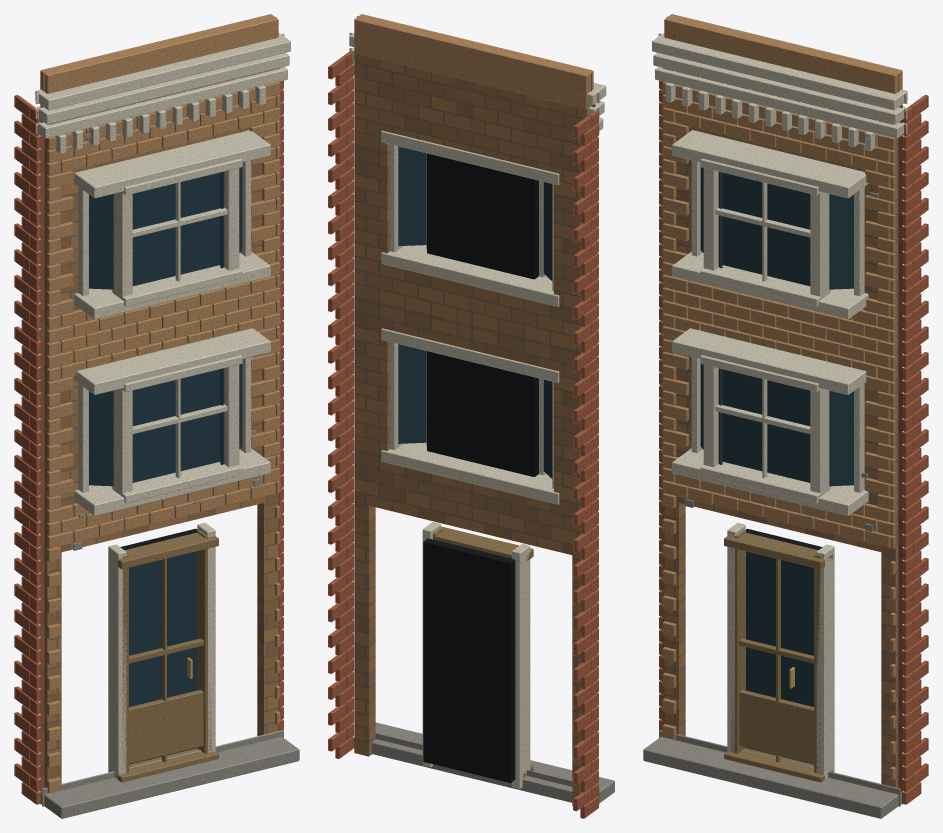
The model's file is RUNDWN14_lod0.glb.
The picture shows the model from 3 angles, left to right: view 1: azimuth 30°, elevation 25°; view 2: azimuth 150°, elevation 25°; view 3: azimuth 330°, elevation 25°; orthographic projection.
Parts seen in each view (by area): view 1: RUNDWN14_FRONT_LOD0; view 2: RUNDWN14_FRONT_LOD0; view 3: RUNDWN14_FRONT_LOD0.
Boxes of the visible parts, <box> form: RUNDWN14_FRONT_LOD0: <box>14,14,299,818</box>; RUNDWN14_FRONT_LOD0: <box>328,14,614,818</box>; RUNDWN14_FRONT_LOD0: <box>643,14,928,818</box>.
Bounding box in the file's own units: 3.44 × 9.66 × 1.11.
Materials: 15 (12 with a texture image).
